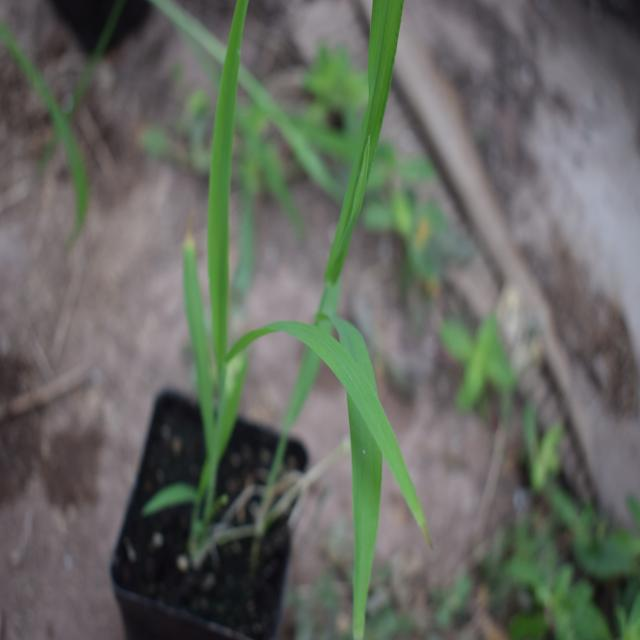crabgrass: (135, 1, 434, 570)
